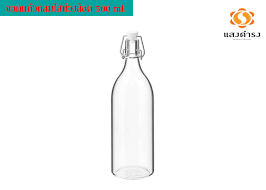glass_bottle: (104, 26, 162, 185)
